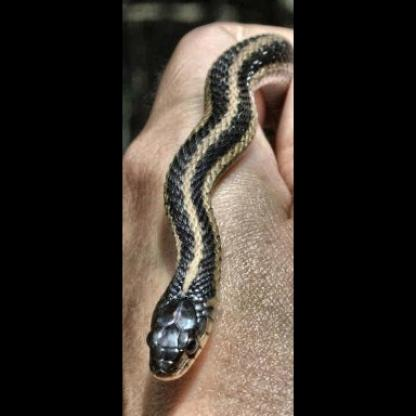Snake: (146, 38, 286, 384)
